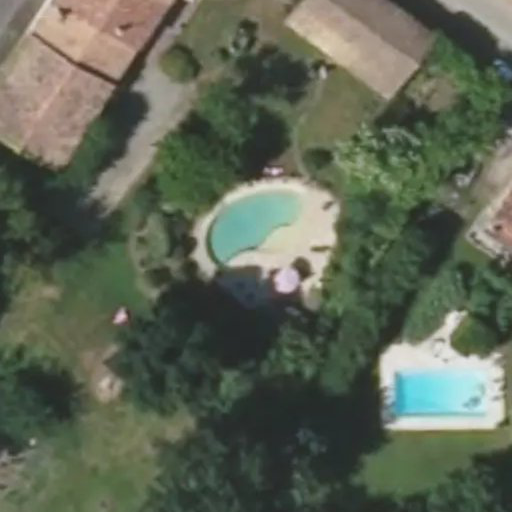pool: (189, 224, 318, 250)
